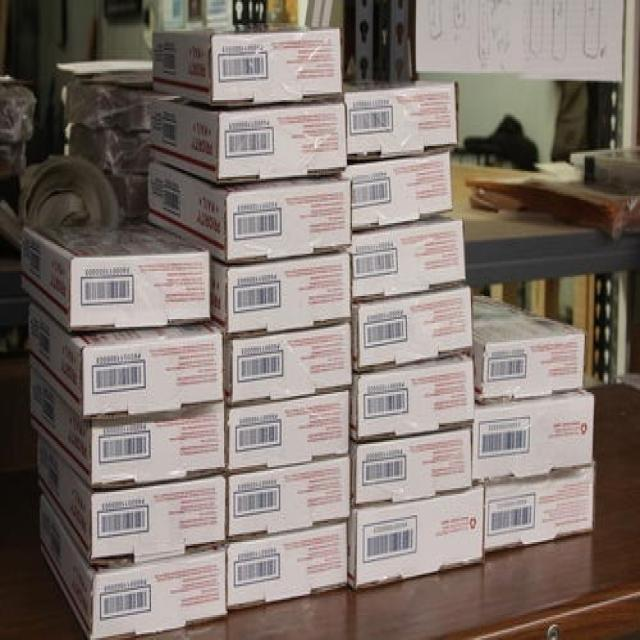box: (40, 494, 226, 638), (39, 435, 226, 564), (30, 368, 224, 485), (30, 305, 223, 418), (148, 162, 351, 263), (22, 225, 210, 330), (150, 99, 347, 184), (347, 483, 484, 589), (153, 29, 341, 105), (463, 296, 585, 404), (209, 252, 351, 335), (347, 283, 473, 375), (468, 389, 593, 480), (348, 354, 474, 443), (223, 522, 348, 609), (223, 321, 352, 405), (474, 462, 595, 551), (344, 215, 465, 303), (224, 388, 349, 473), (226, 456, 350, 537), (350, 426, 472, 506), (341, 82, 458, 163), (339, 150, 453, 230)
